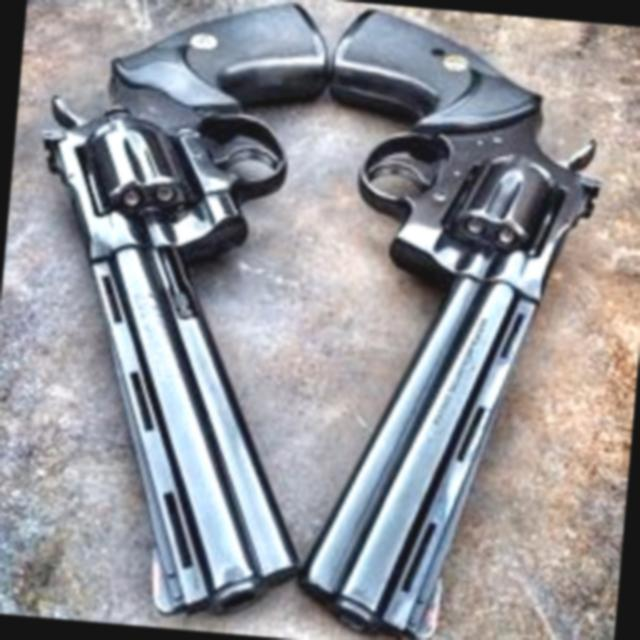revolver: (0, 0, 352, 633)
